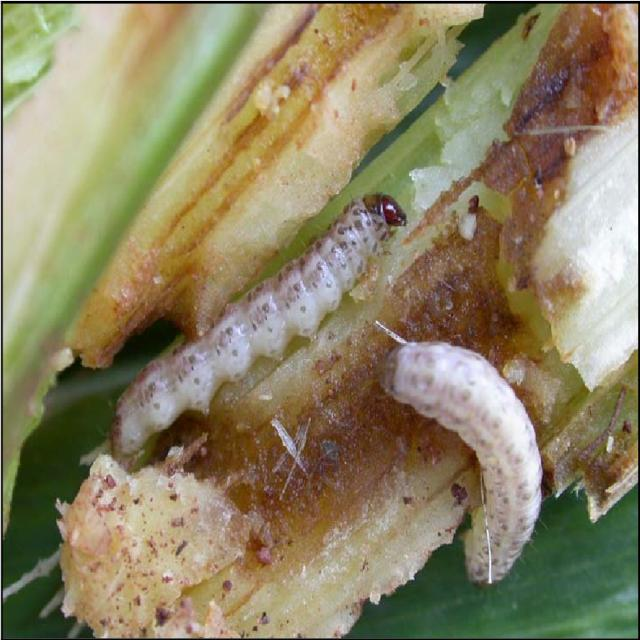cornborer-Larva-: (92, 171, 424, 478), (353, 321, 554, 607)
